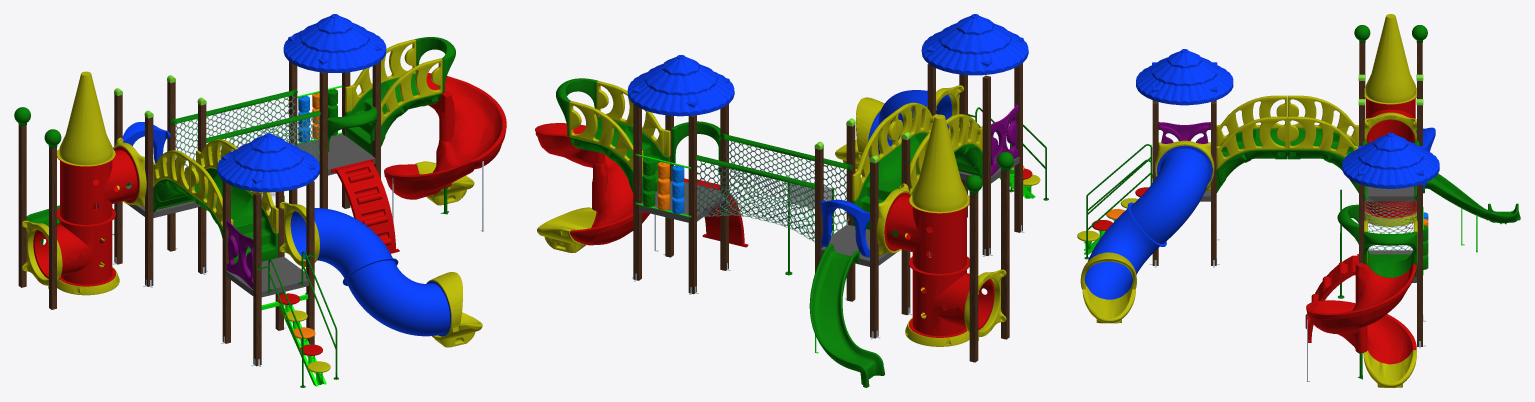
The picture shows the model from 3 angles, left to right: view 1: azimuth 30°, elevation 25°; view 2: azimuth 150°, elevation 25°; view 3: azimuth 270°, elevation 25°; orthographic projection. The views are drawn at different scales.
Visible parts, largest first — view 1: CARACOL M1.001, DUTO TOBOGA M3 LADO A, FOGUETINHO M2 LADO A, TOLDO M2.001, TOLDO M2, DUTO TOBOGA M3 LADO B, FOGUETINHO M2 LADO B, CONE M2, ESCALADA M2, PASSARELA DE CORDAS 2M, ACESSO M1.003, ACESSO M1.001 (+40 smaller); view 2: PASSARELA DE CORDAS 2M, CARACOL M1.001, FOGUETINHO M2 LADO A, TOLDO M2, TOLDO M2.001, ESCORREGADOR M4, FOGUETINHO M2 LADO B, CONE M2, JOGO DA VELHA, LATERAL M1.007, ACESSO M1.003, LATERAL M1.006 (+36 smaller); view 3: CARACOL M1.001, DUTO TOBOGA M3 LADO B, TOLDO M2, TOLDO M2.001, DUTO TOBOGA M3 LADO A, CONE M2, LATERAL M1.002, LATERAL M1.003, ESCORREGADOR M4, FOGUETINHO M2 LADO A, ACESSO M1.001, LATERAL M1 (+23 smaller).
Boxes of the visible parts, left/top/right/bottom form: CARACOL M1.001: left=384, top=73, right=506, bottom=199; DUTO TOBOGA M3 LADO A: left=343, top=258, right=450, bottom=336; FOGUETINHO M2 LADO A: left=57, top=146, right=139, bottom=227; TOLDO M2.001: left=283, top=14, right=386, bottom=72; TOLDO M2: left=217, top=133, right=319, bottom=192; DUTO TOBOGA M3 LADO B: left=290, top=208, right=396, bottom=284; FOGUETINHO M2 LADO B: left=33, top=204, right=115, bottom=286; CONE M2: left=57, top=71, right=115, bottom=166; ESCALADA M2: left=331, top=159, right=399, bottom=253; PASSARELA DE CORDAS 2M: left=175, top=95, right=319, bottom=169; ACESSO M1.003: left=345, top=73, right=449, bottom=214; ACESSO M1.001: left=190, top=186, right=278, bottom=263; PASSARELA DE CORDAS 2M: left=697, top=140, right=849, bottom=242; CARACOL M1.001: left=535, top=123, right=649, bottom=245; FOGUETINHO M2 LADO A: left=884, top=192, right=969, bottom=276; TOLDO M2: left=921, top=14, right=1028, bottom=75; TOLDO M2.001: left=627, top=55, right=734, bottom=116; ESCORREGADOR M4: left=809, top=243, right=884, bottom=387; FOGUETINHO M2 LADO B: left=909, top=252, right=994, bottom=337; CONE M2: left=909, top=114, right=969, bottom=213; JOGO DA VELHA: left=635, top=154, right=691, bottom=217; LATERAL M1.007: left=569, top=101, right=643, bottom=176; ACESSO M1.003: left=569, top=117, right=670, bottom=201; LATERAL M1.006: left=596, top=81, right=670, bottom=156; CARACOL M1.001: left=1306, top=263, right=1416, bottom=364; DUTO TOBOGA M3 LADO B: left=1128, top=145, right=1212, bottom=246; TOLDO M2: left=1136, top=49, right=1233, bottom=105; TOLDO M2.001: left=1342, top=132, right=1439, bottom=188; DUTO TOBOGA M3 LADO A: left=1084, top=203, right=1159, bottom=299; CONE M2: left=1364, top=14, right=1416, bottom=104; LATERAL M1.002: left=1216, top=116, right=1287, bottom=169; LATERAL M1.003: left=1287, top=116, right=1358, bottom=157; ESCORREGADOR M4: left=1423, top=173, right=1520, bottom=224; FOGUETINHO M2 LADO A: left=1364, top=97, right=1416, bottom=143; ACESSO M1.001: left=1216, top=128, right=1287, bottom=192; LATERAL M1: left=1216, top=95, right=1287, bottom=146.
Size of the model in its own units: 7.78 by 3.49 by 6.94.
30 materials, 5 textured.
